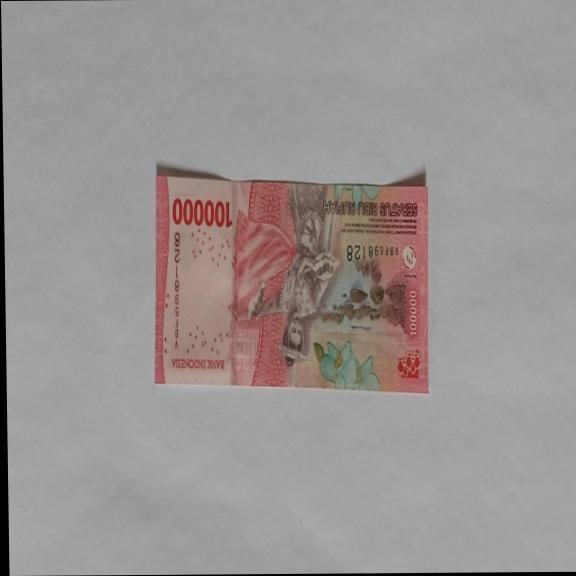Kertas: (151, 167, 430, 395), (171, 195, 232, 230)
